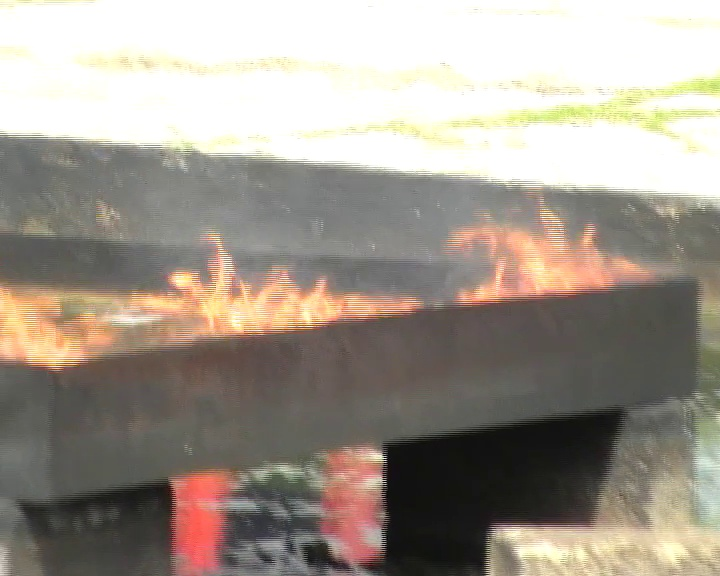fire: (1, 256, 412, 368), (457, 204, 632, 301)
